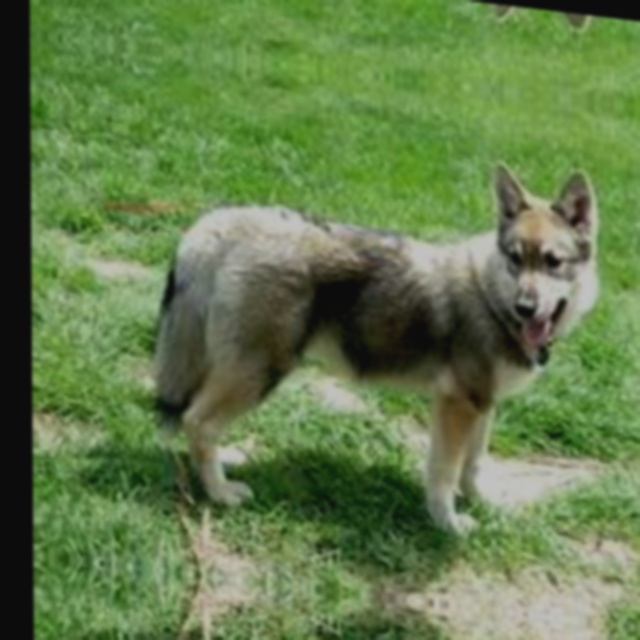dog: (63, 100, 611, 624), (66, 558, 613, 640), (62, 0, 608, 40)
